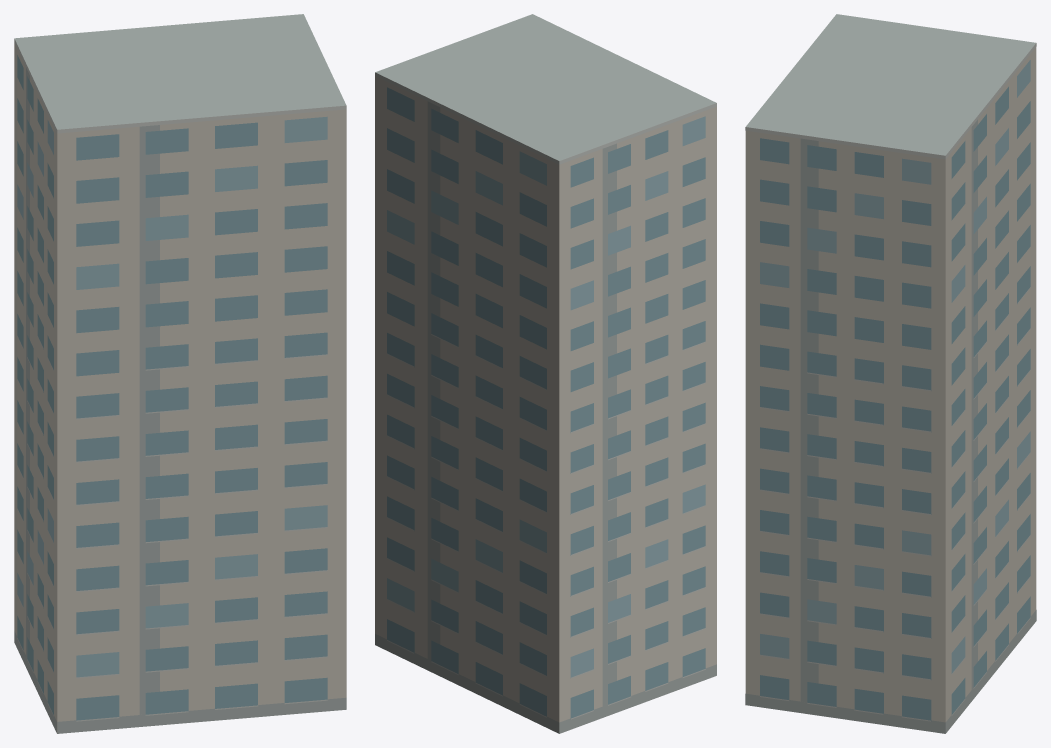
Rendered from residential-3b77ecbb-376c-43e2-bc64-898c38a7418a.glb.
The picture shows the model from 3 angles, left to right: view 1: azimuth 30°, elevation 25°; view 2: azimuth 150°, elevation 25°; view 3: azimuth 270°, elevation 25°; orthographic projection. The views are drawn at different scales.
Visible parts, largest first — view 1: residential-3b77ecbb-376c-43e2-bc64-898c38a7418a.tmp; view 2: residential-3b77ecbb-376c-43e2-bc64-898c38a7418a.tmp; view 3: residential-3b77ecbb-376c-43e2-bc64-898c38a7418a.tmp.
Part boxes in pixels (x1,y1,x2,y2): residential-3b77ecbb-376c-43e2-bc64-898c38a7418a.tmp: (14, 14, 346, 733); residential-3b77ecbb-376c-43e2-bc64-898c38a7418a.tmp: (375, 14, 716, 733); residential-3b77ecbb-376c-43e2-bc64-898c38a7418a.tmp: (745, 14, 1036, 733).
Size of the model in its own units: 20.52 by 39 by 17.8.
